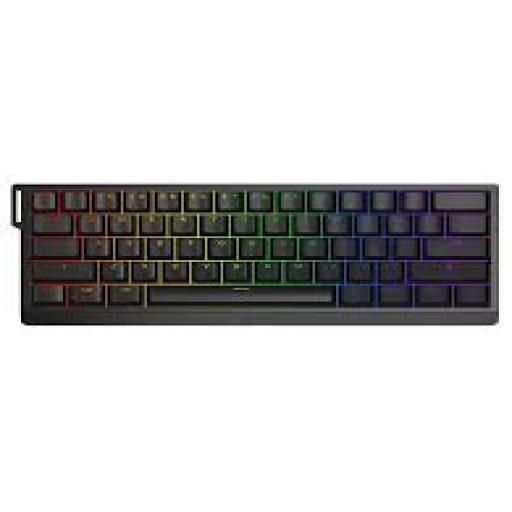keyboard: (13, 185, 496, 323)
